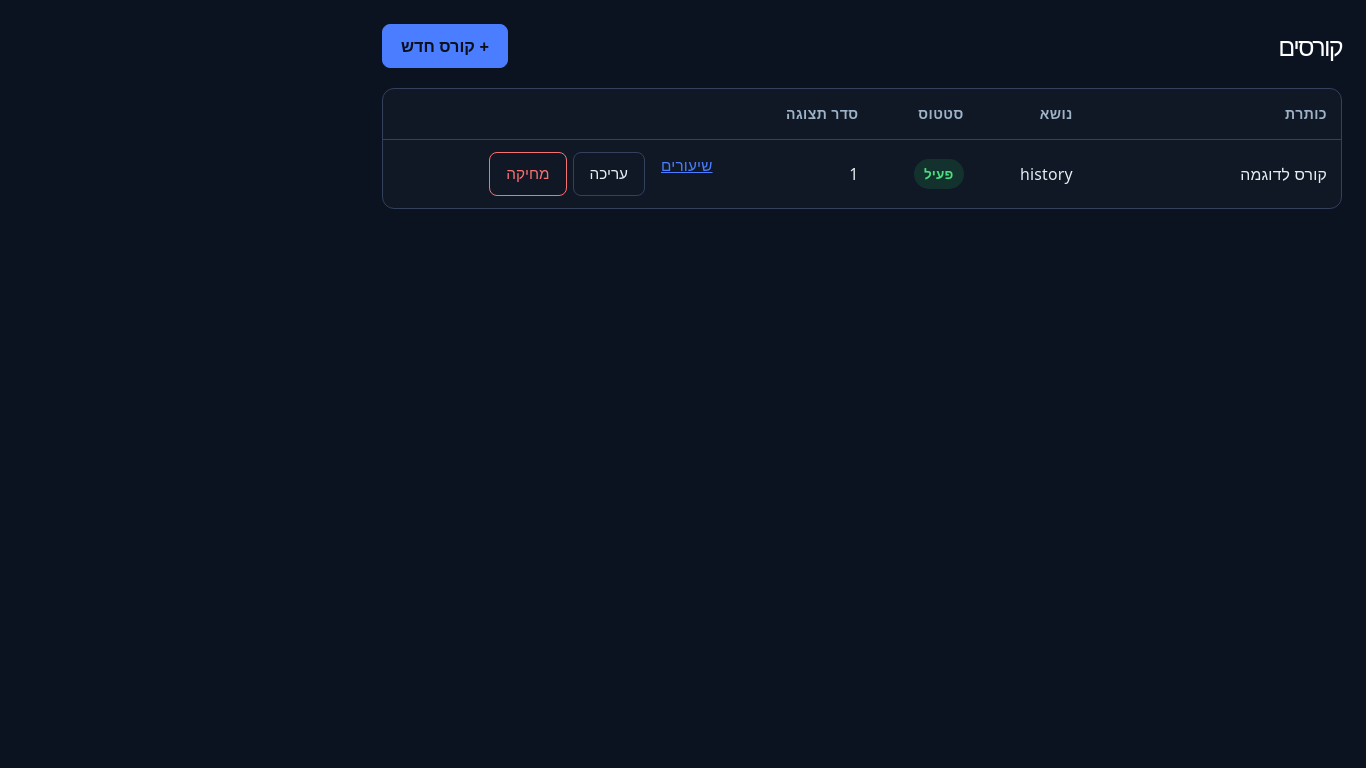
Test case: AdminCourses › warns before discarding unsaved changes instead of closing silently
This screenshot has width=1366, height=768.
Click the button "+ קורס חדש" at (445, 46), box [382,24,508,68]
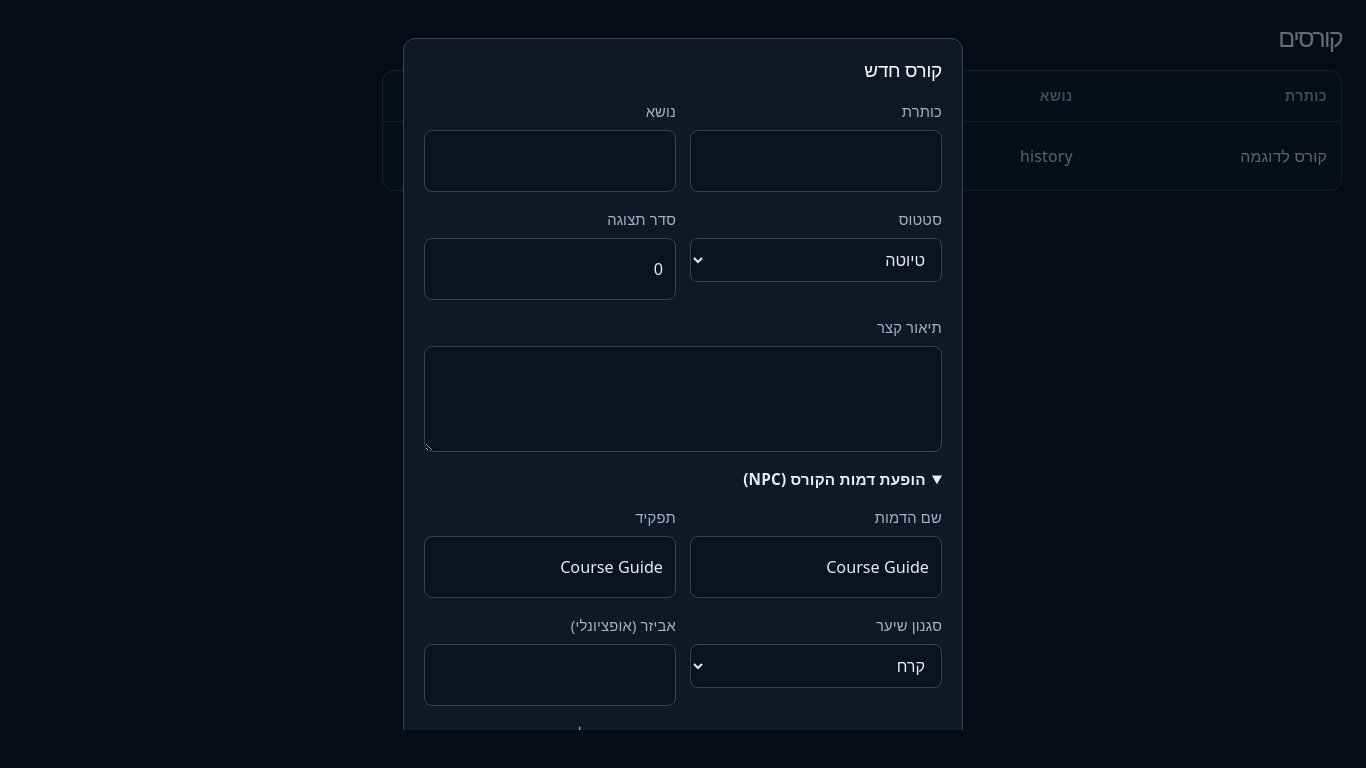
Type "טיוטה" into the field labelled "כותרת" at (816, 161), box [690,130,942,192]
(page scrolled)
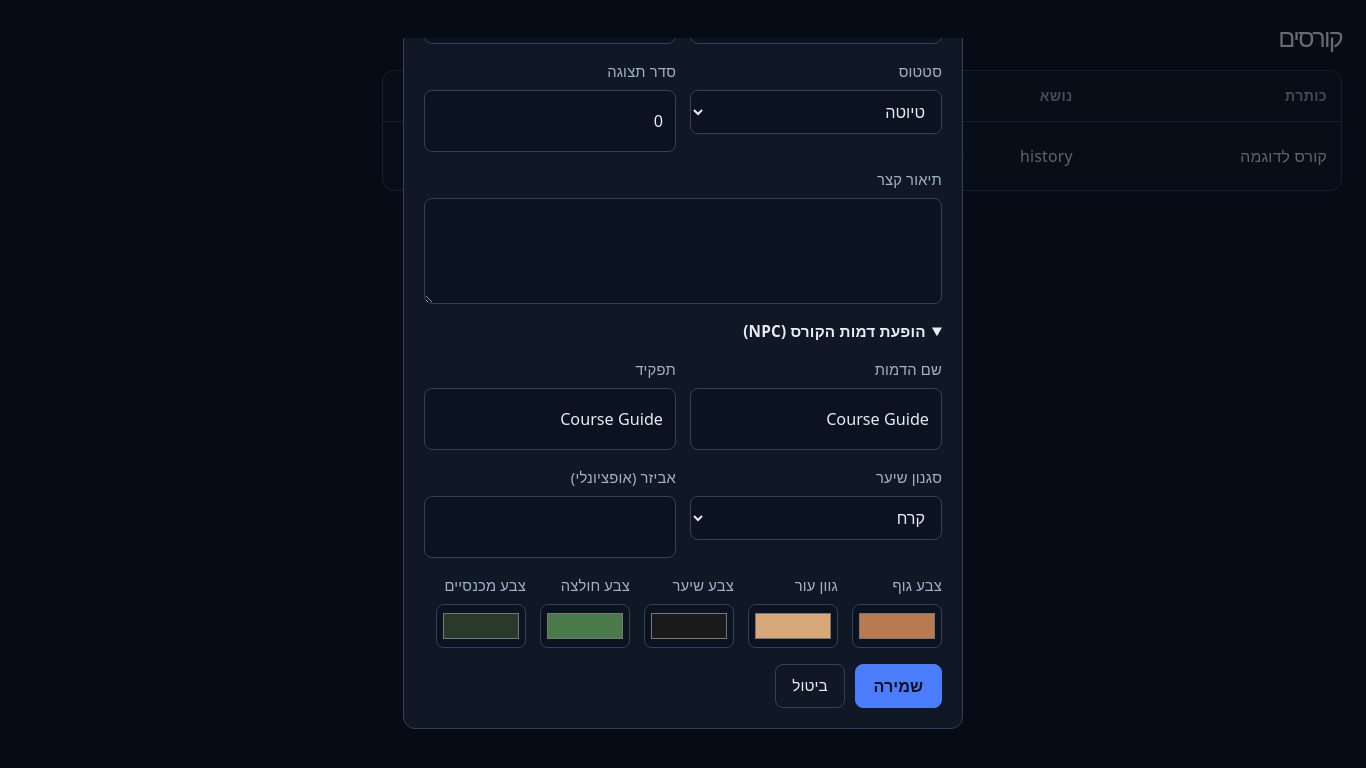
Click the button "ביטול" at (810, 686), box [775,664,844,708]
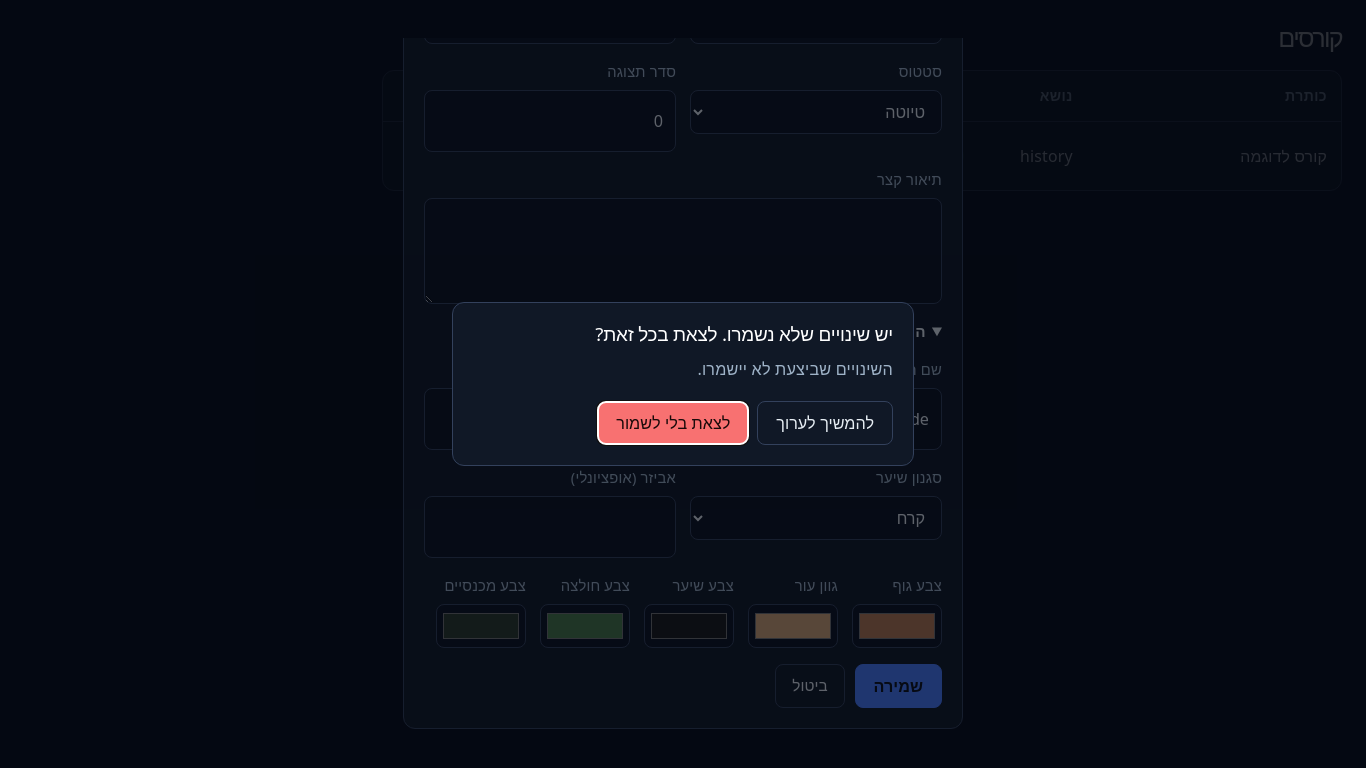
Now the heading "יש שינויים שלא נשמרו. לצאת בכל זאת?" is shown, box [595,321,893,347]
